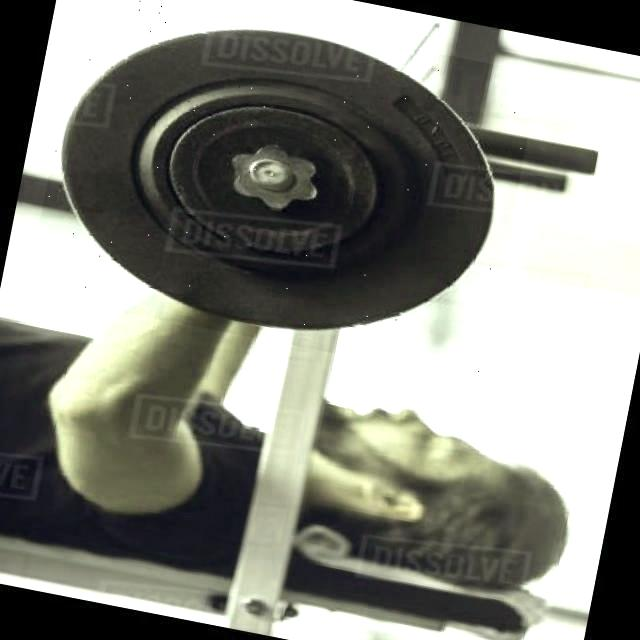barbell: (27, 1, 540, 382)
